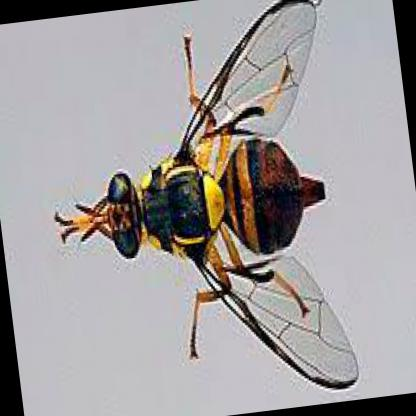fruit fly: (57, 0, 362, 391)
